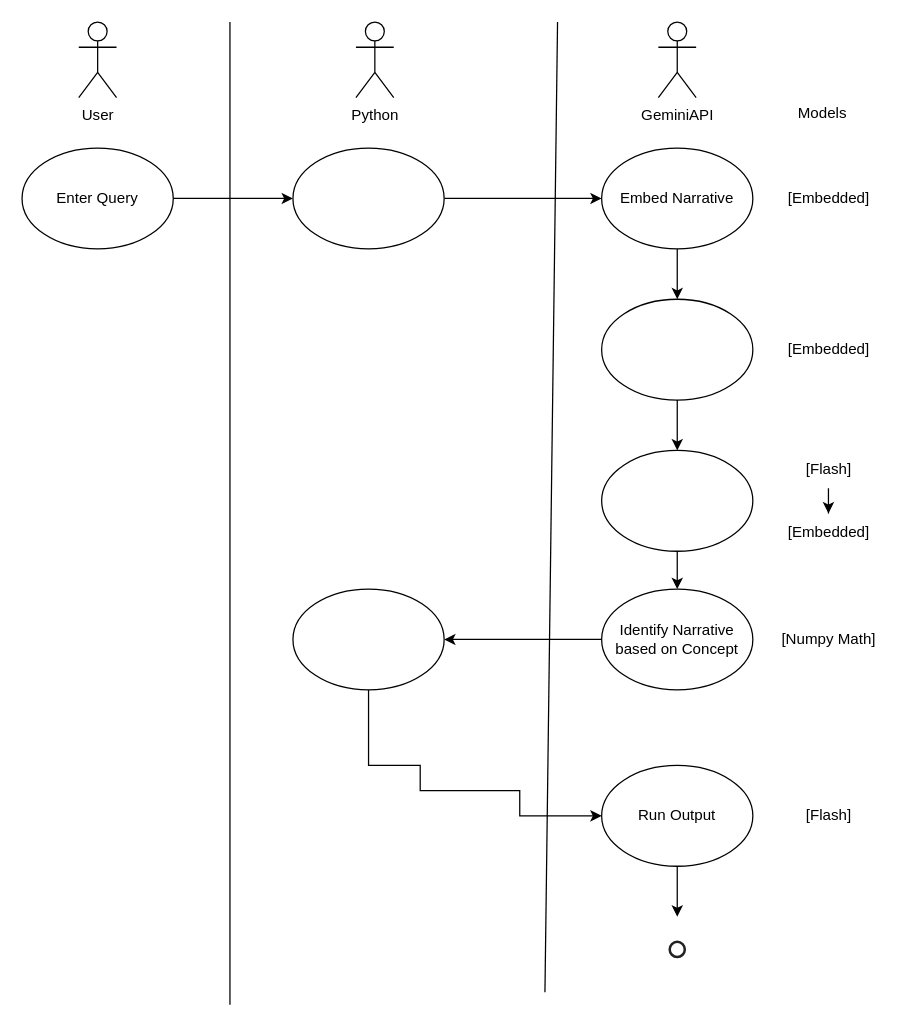
This 914x1028 diagram has some shape labels left out. The shapes that lost their labels are listed below. From the top down, each one's centre as x and y in pixels, then its label:
At (x=368, y=198): "Connect to Gemini".
At (x=676, y=349): "Embed Query".
At (x=676, y=500): "Identify Concept".
At (x=368, y=639): "Define Output Format".
